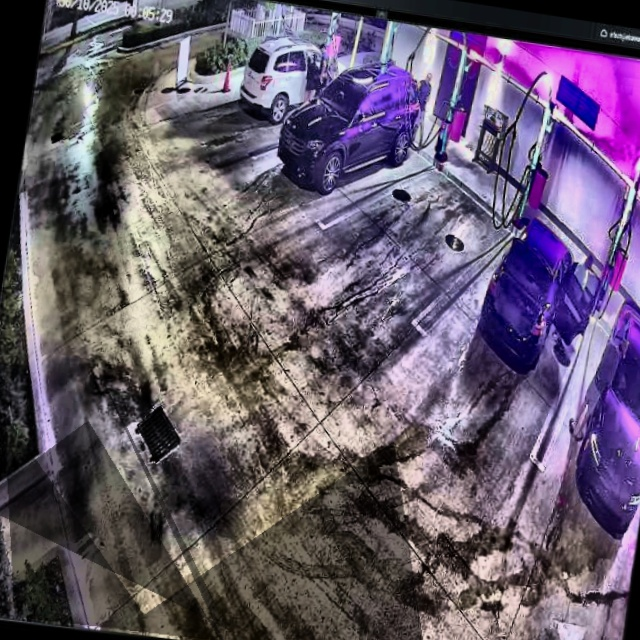Car: (273, 50, 428, 204)
